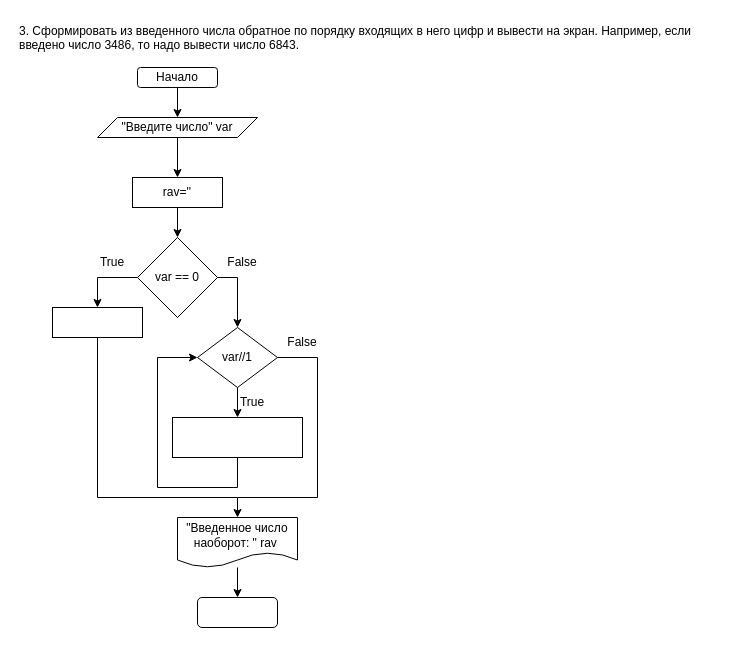
Some shapes in this 744 by 645 pixel diagram are drawn without their labels. The box of each missing label's shape, as (x1, y1, x2, y2) in pixels:
rav = '0': (52, 306, 142, 338)
rav+=str(var%10) var//=10: (172, 416, 302, 458)
Конец: (196, 596, 278, 628)
